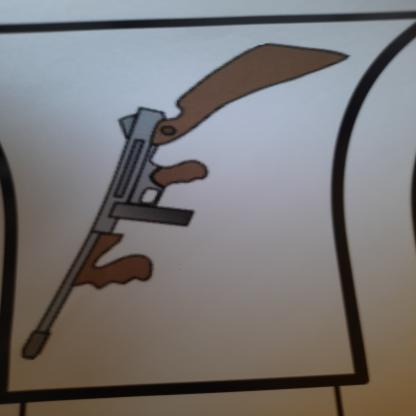Bootlegger: (19, 39, 359, 370)
